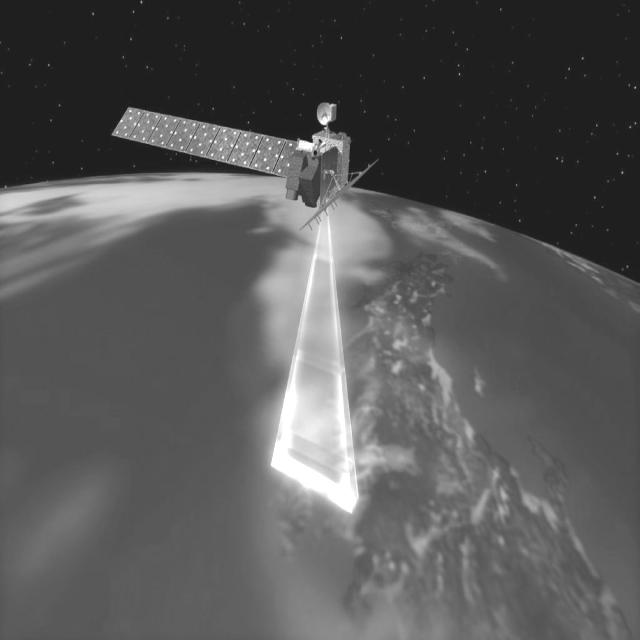satellite: (107, 88, 380, 224)
